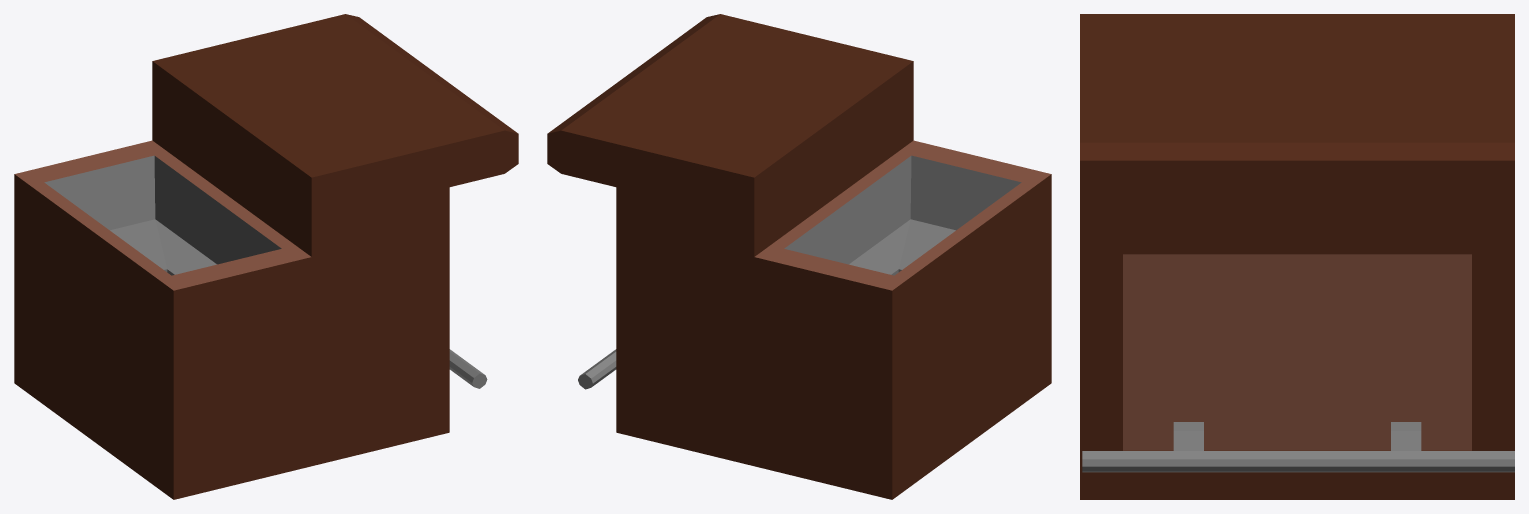
Rendered from Bar Sink.fbx.
3 renders of one model, left to right at view 1: azimuth 30°, elevation 25°; view 2: azimuth 150°, elevation 25°; view 3: azimuth 270°, elevation 25°, orthographic. The views are drawn at different scales.
Visible parts, largest first — view 1: Bar Sink, Bar Sink Pole; view 2: Bar Sink, Bar Sink Pole; view 3: Bar Sink, Bar Sink Pole.
Part boxes in pixels (<box>): Bar Sink: <box>14,14,518,499</box>; Bar Sink Pole: <box>449,349,487,388</box>; Bar Sink: <box>547,14,1051,499</box>; Bar Sink Pole: <box>578,349,616,389</box>; Bar Sink: <box>1080,14,1514,499</box>; Bar Sink Pole: <box>1082,422,1514,472</box>.
Size of the model in its own units: 2500 by 2000 by 2000.
